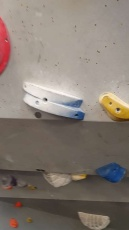Hand Start: (33, 109, 43, 120)
Pinch: (21, 79, 86, 121), (96, 162, 126, 184)
